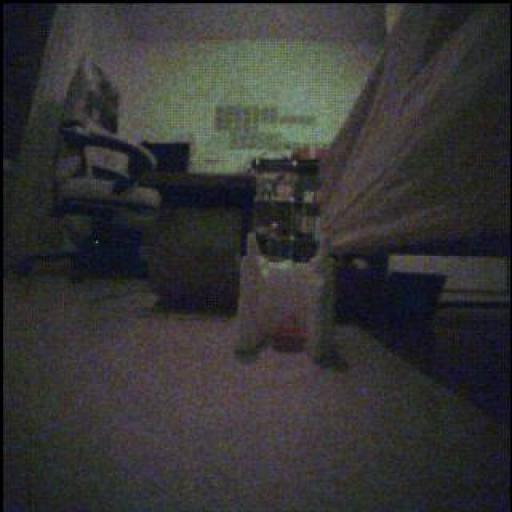basket: (273, 319, 308, 353)
